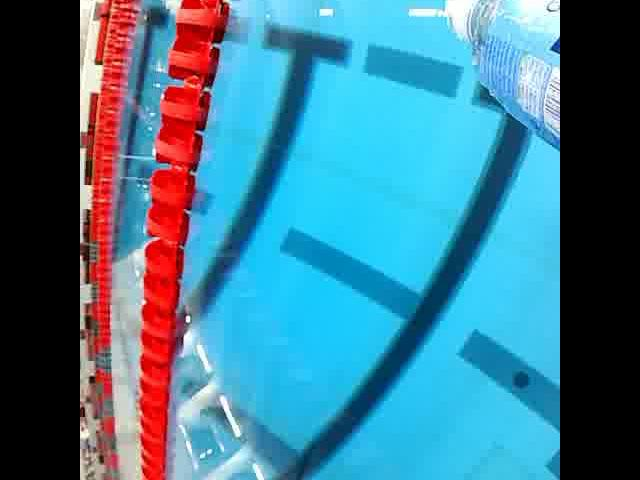Bottle: (436, 0, 560, 157)
